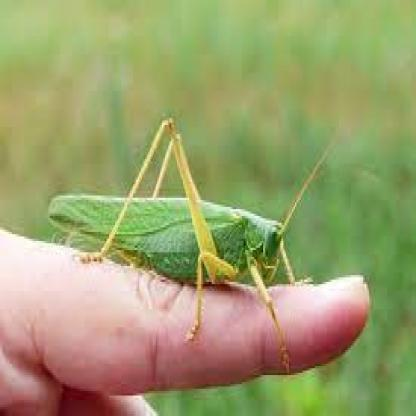grasshopper: (47, 113, 322, 346)
